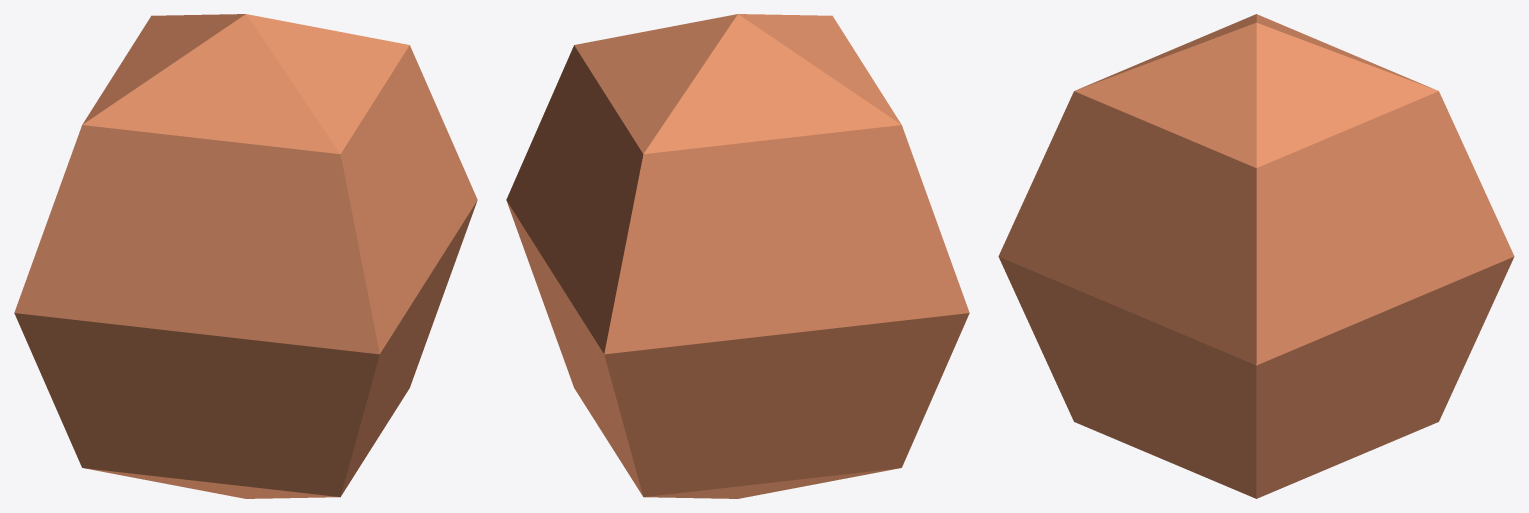
The model's file is bullet_player.fbx.
3 views of the same model, side by side, from view 1: azimuth 30°, elevation 25°; view 2: azimuth 150°, elevation 25°; view 3: azimuth 270°, elevation 25° (orthographic). The views are drawn at different scales.
Visible parts, largest first — view 1: 玩家-子弹; view 2: 玩家-子弹; view 3: 玩家-子弹.
Part boxes in pixels (left/top/right/bottom): 玩家-子弹: left=14, top=14, right=477, bottom=498; 玩家-子弹: left=506, top=14, right=969, bottom=498; 玩家-子弹: left=998, top=14, right=1514, bottom=498.
Bounding box in the file's own units: 0.3 × 0.3 × 0.3.
